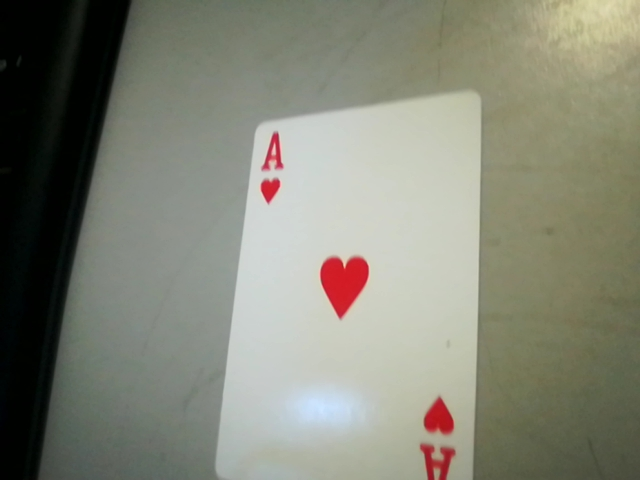hx a: (411, 394, 469, 480)
